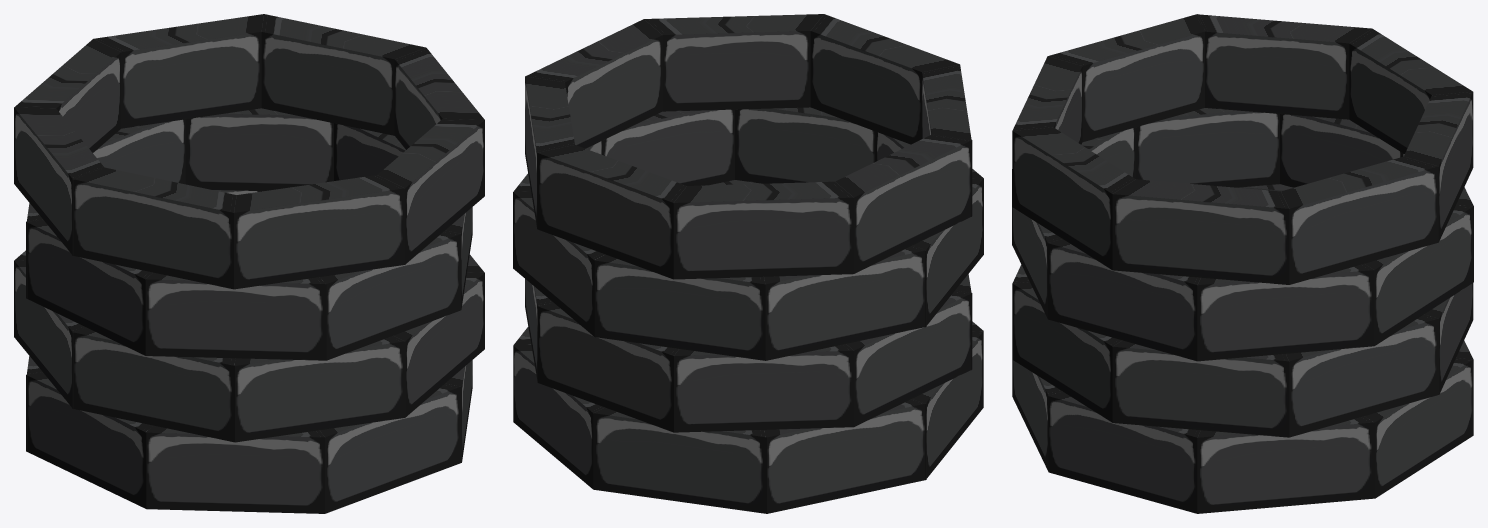
The model's file is Pilar.fbx.
3 views of the same model, side by side, from view 1: azimuth 30°, elevation 25°; view 2: azimuth 150°, elevation 25°; view 3: azimuth 270°, elevation 25° (orthographic).
Visible parts, largest first — view 1: Plane.012; view 2: Plane.012; view 3: Plane.012.
Boxes of the visible parts, x1,y1,x2,y2 form: Plane.012: (14,14,484,513); Plane.012: (513,14,983,513); Plane.012: (1012,14,1473,513).
Bounding box in the file's own units: 1097 × 800 × 1097.
